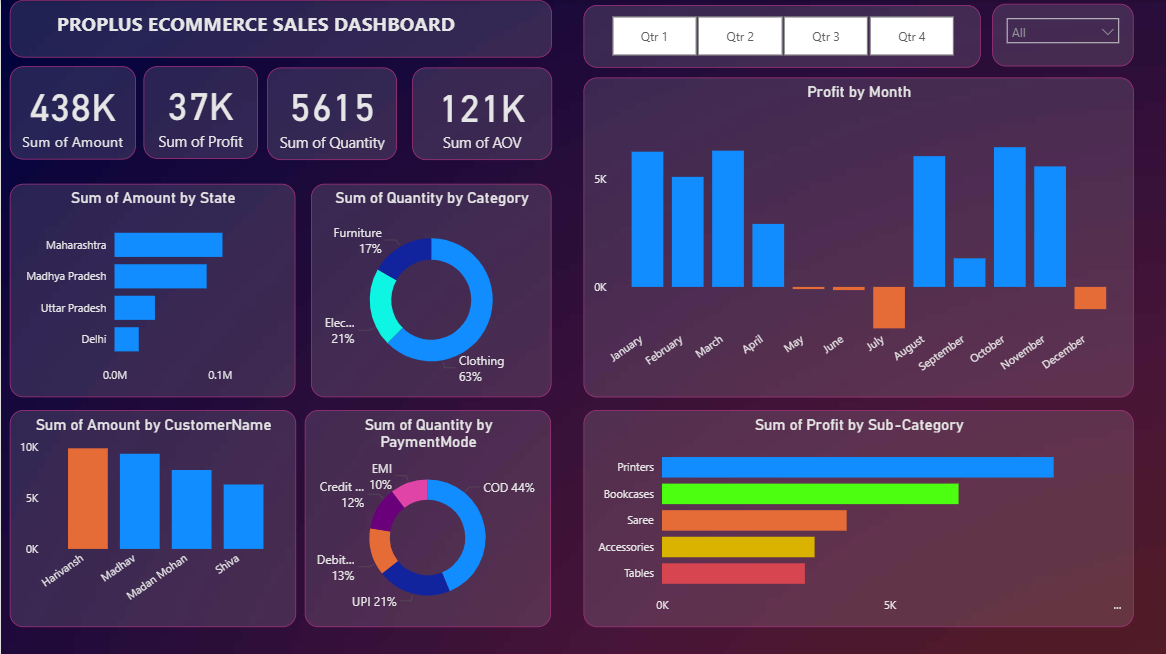

The dashboard page shown, as its layout file describes it:
{"tool":"powerbi","page":{"name":"Page 1","canvas":[1280,720],"ordinal":0},"visuals":[{"type":"columnChart","title":"Profit by Month","fields":{"Category":["Orders.Order Date.Variation.Date Hierarchy.Month"],"Y":["Details.Profit"]},"box":[639.5,85.1,603.8,351.3],"z":0},{"type":"barChart","fields":{"Category":["Details.Sub-Category"],"Y":["Details.Profit"]},"box":[639.5,450.1,603.8,238.8],"z":1000},{"type":"donutChart","fields":{"Category":["Details.Category"],"Y":["Details.Quantity"]},"box":[340.2,201.5,264.2,234],"z":2000},{"type":"donutChart","fields":{"Y":["Details.Quantity"],"Category":["Details.PaymentMode"]},"box":[333.4,450.1,270.3,238.8],"z":3000},{"type":"card","fields":{"Values":["Details.Amount"]},"box":[9.7,72.4,138.7,102.5],"z":4000},{"type":"card","fields":{"Values":["Details.Profit"]},"box":[156.8,72.4,125.5,101.3],"z":5000},{"type":"card","fields":{"Values":["Details.Quantity"]},"box":[292,73.6,142.4,101.3],"z":6000},{"type":"card","fields":{"Values":["Details.AOV"]},"box":[451.2,73.6,153.2,101.3],"z":7000},{"type":"barChart","fields":{"Category":["Orders.State"],"Y":["Details.Amount"]},"box":[9.7,201.5,313.7,234],"z":8000},{"type":"columnChart","fields":{"Category":["Orders.CustomerName"],"Y":["Details.Amount"]},"box":[9.6,450.1,314.2,238.8],"z":9000},{"type":"textbox","box":[9.6,0,595.5,63.1],"z":10000},{"type":"slicer","fields":{"Values":["Orders.Order Date.Variation.Date Hierarchy.Quarter"]},"box":[639.5,5.5,436.4,68.6],"z":11000},{"type":"slicer","fields":{"Values":["Orders.State"]},"box":[1088.2,4.1,155.1,68.6],"z":12000}]}

Visuals, with their boxes in screenshot pixels (x1, y1, x2, y2), scaled from the page's 1280x720 canvas onto the 1166x654 screenshot:
"Profit by Month" columnChart: (583,77,1133,396)
barChart - Details.Sub-Category x Details.Profit: (583,409,1133,626)
donutChart - Details.Category x Details.Quantity: (310,183,551,396)
donutChart - Details.Quantity x Details.PaymentMode: (304,409,550,626)
card - Details.Amount: (9,66,135,159)
card - Details.Profit: (143,66,257,158)
card - Details.Quantity: (266,67,396,159)
card - Details.AOV: (411,67,551,159)
barChart - Orders.State x Details.Amount: (9,183,295,396)
columnChart - Orders.CustomerName x Details.Amount: (9,409,295,626)
textbox: (9,0,551,57)
slicer - Orders.Order Date.Variation.Date Hierarchy.Quarter: (583,5,980,67)
slicer - Orders.State: (991,4,1133,66)
